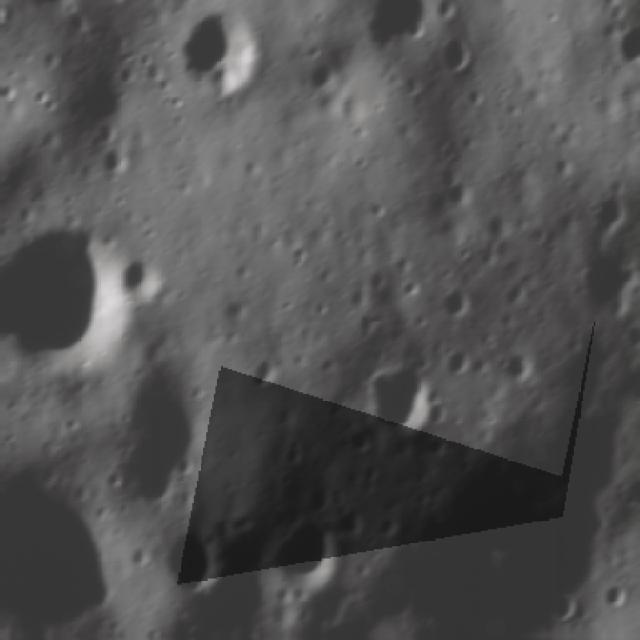crater: (0, 464, 141, 640), (113, 339, 215, 526), (0, 220, 126, 365), (160, 9, 266, 112), (364, 357, 448, 445), (259, 512, 341, 597), (150, 523, 227, 612), (67, 70, 136, 147), (358, 0, 432, 55), (574, 256, 637, 319), (119, 248, 167, 310), (582, 188, 633, 242), (437, 30, 481, 87), (492, 351, 543, 392), (246, 349, 286, 400), (89, 140, 133, 186), (431, 288, 474, 330), (331, 504, 364, 547), (443, 172, 479, 210), (306, 57, 337, 101), (615, 17, 640, 71), (442, 344, 472, 388), (482, 212, 516, 250), (24, 0, 78, 20), (97, 0, 132, 17), (0, 81, 20, 110), (468, 0, 501, 6)
